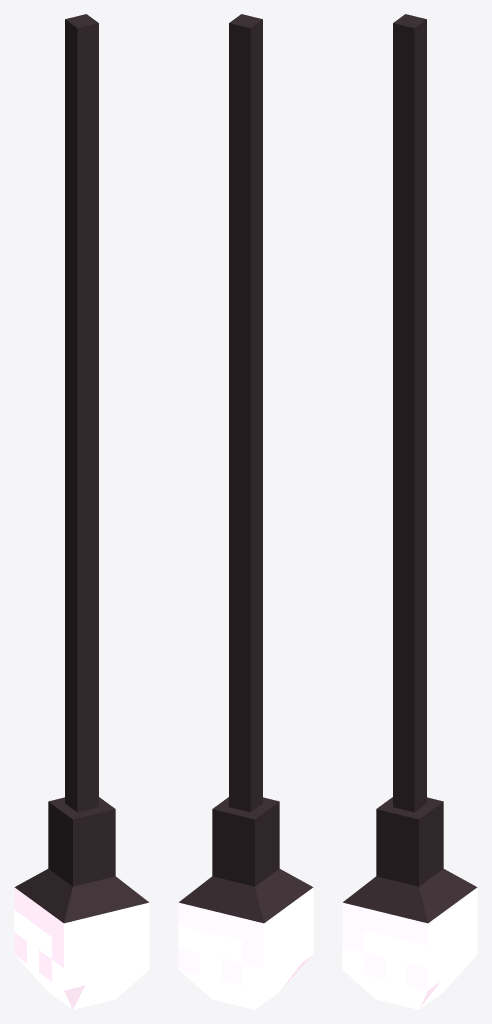
The model's file is Lightbulb.fbx.
The picture shows the model from 3 angles, left to right: view 1: azimuth 30°, elevation 25°; view 2: azimuth 150°, elevation 25°; view 3: azimuth 330°, elevation 25°; orthographic projection.
Parts seen in each view (by area): view 1: Cube.003; view 2: Cube.003; view 3: Cube.003.
Part boxes in pixels (x1=…): Cube.003: x1=14, y1=14, x2=149, y2=1009; Cube.003: x1=178, y1=14, x2=313, y2=1009; Cube.003: x1=342, y1=14, x2=477, y2=1009.
Size of the model in its own units: 25 by 272 by 25.
